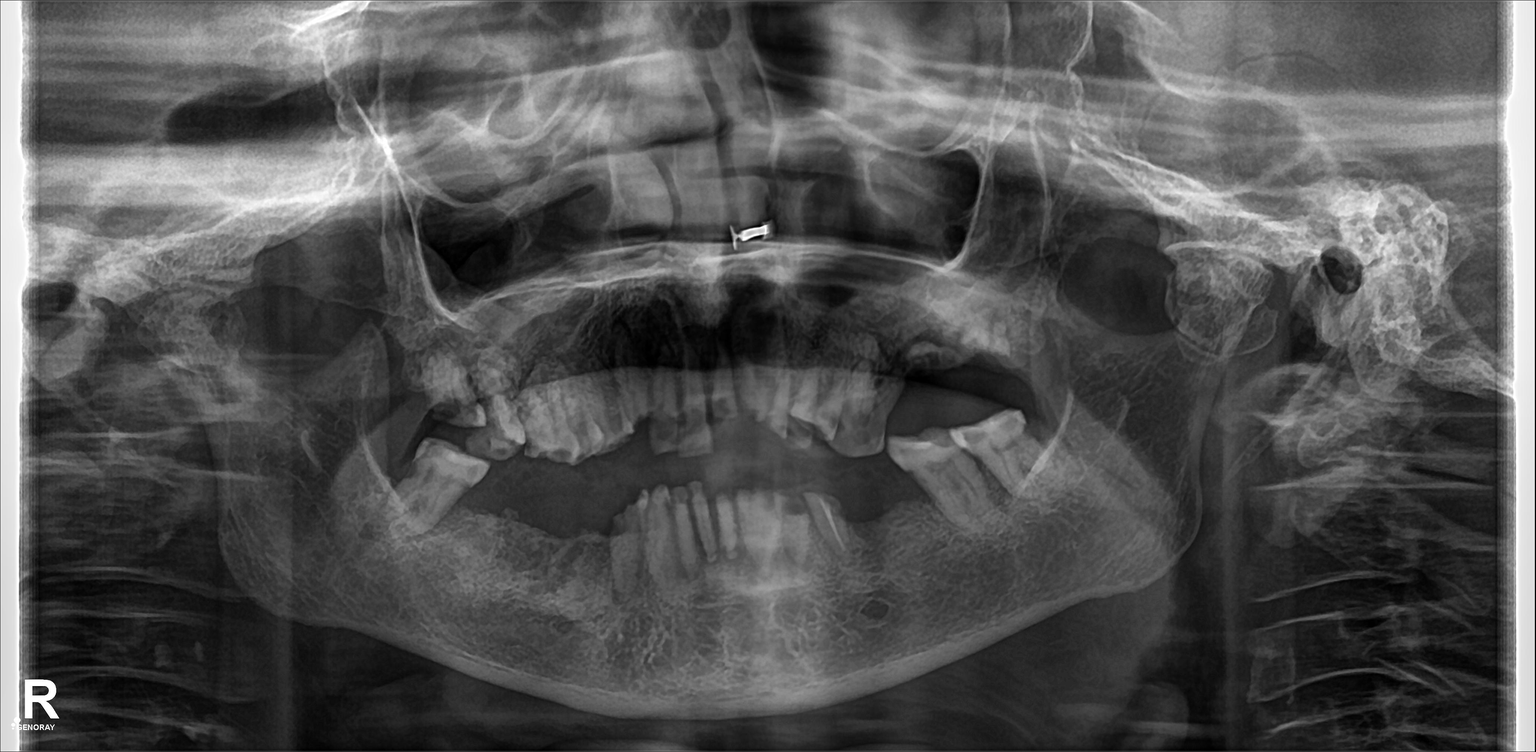Dental Caries: (425, 391, 474, 422), (650, 411, 697, 442), (715, 396, 737, 417)
Endodontically Treated Tooth: (818, 488, 845, 565)
Missing Tooth: (898, 477, 942, 572), (849, 484, 894, 569), (911, 333, 955, 417), (371, 331, 408, 423), (521, 484, 550, 576), (486, 471, 514, 563), (957, 333, 992, 405), (378, 434, 413, 503), (555, 493, 585, 570), (998, 337, 1029, 404)
Retained Root: (592, 484, 635, 581)
Tooth Fracture: (410, 350, 478, 439)
